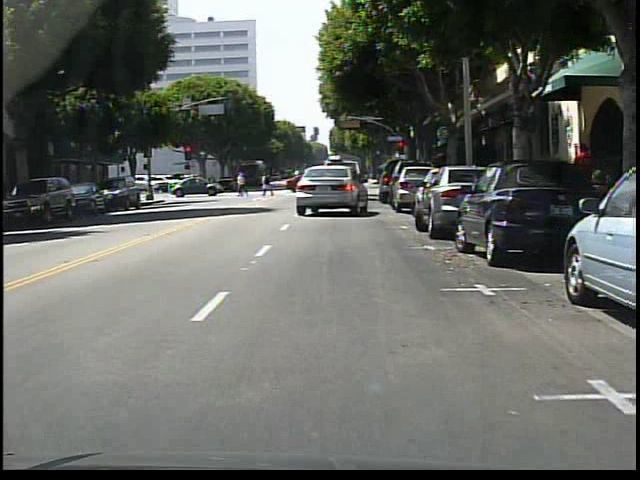person: (572, 142, 600, 220), (236, 172, 250, 197), (264, 169, 276, 198), (264, 174, 265, 191)
